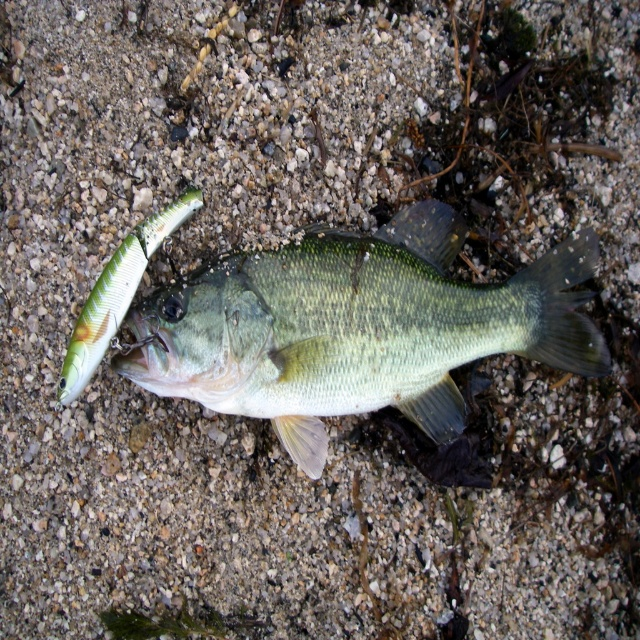Fish: (50, 208, 612, 490), (57, 187, 207, 410)
